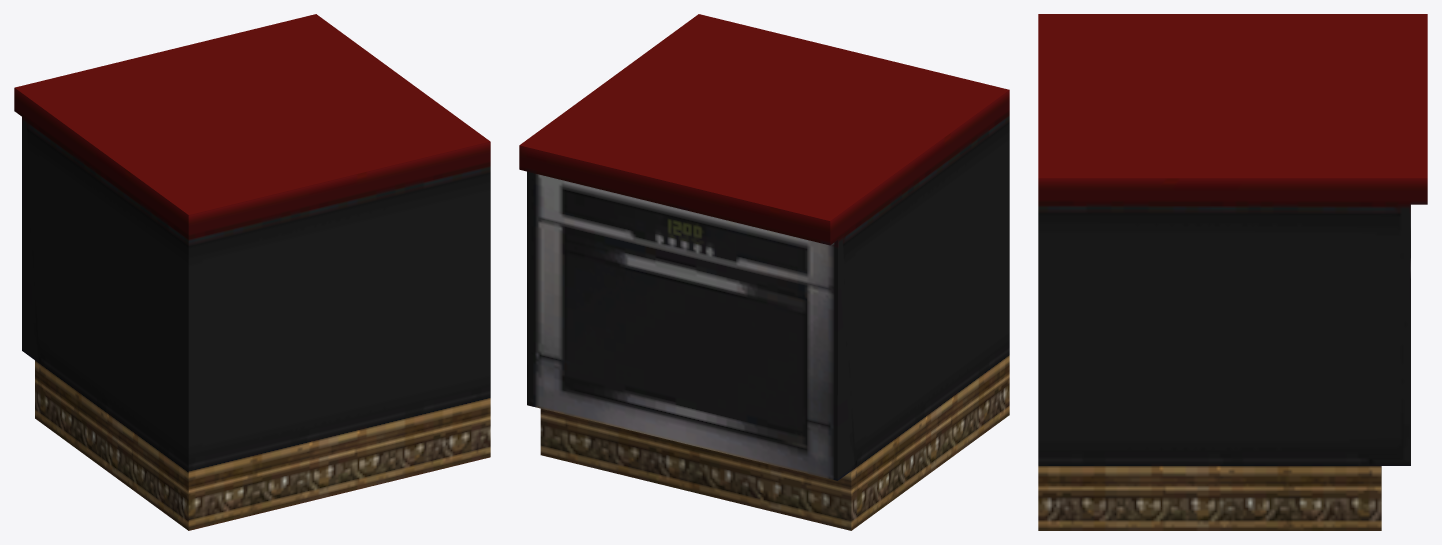
The model's file is furni_0200323.FBX.
3 renders of one model, left to right at view 1: azimuth 30°, elevation 25°; view 2: azimuth 150°, elevation 25°; view 3: azimuth 270°, elevation 25°, orthographic. The views are drawn at different scales.
Parts seen in each view (by area): view 1: furni_0200323; view 2: furni_0200323; view 3: furni_0200323.
Boxes of the visible parts, x1,y1,x2,y2 form: furni_0200323: [14, 14, 490, 530]; furni_0200323: [519, 14, 1009, 530]; furni_0200323: [1038, 14, 1427, 530].
Size of the model in its own units: 80 by 80 by 80.
Materials: 1 (1 with a texture image).
